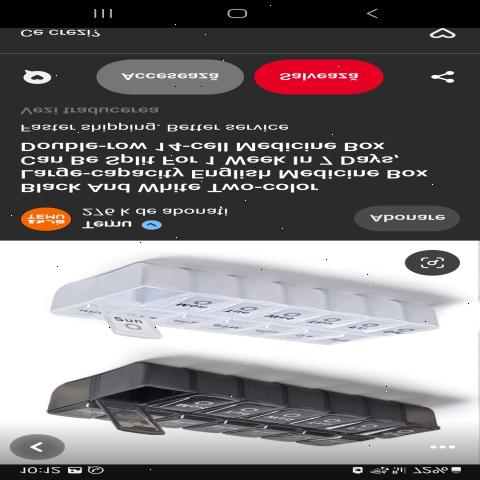PillBox: (27, 360, 454, 460)
